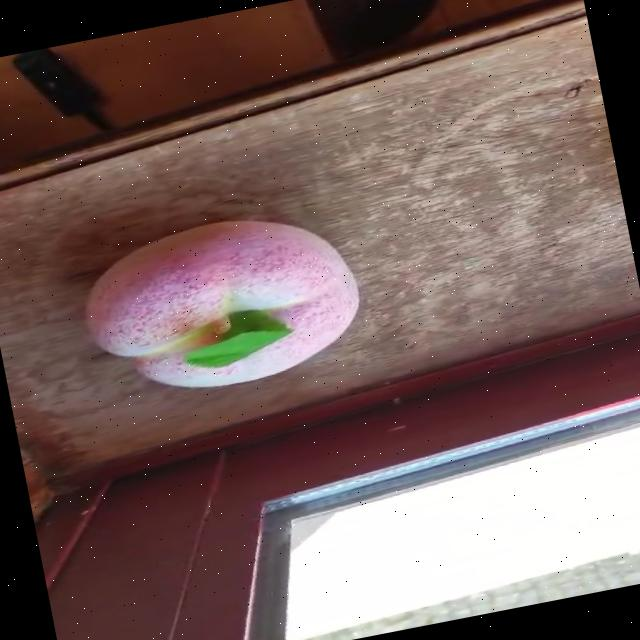peach: (84, 220, 358, 386)
